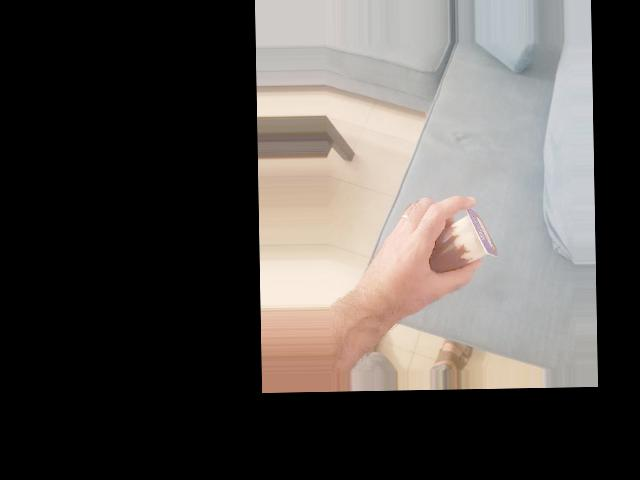milky: (492, 124, 562, 196)
